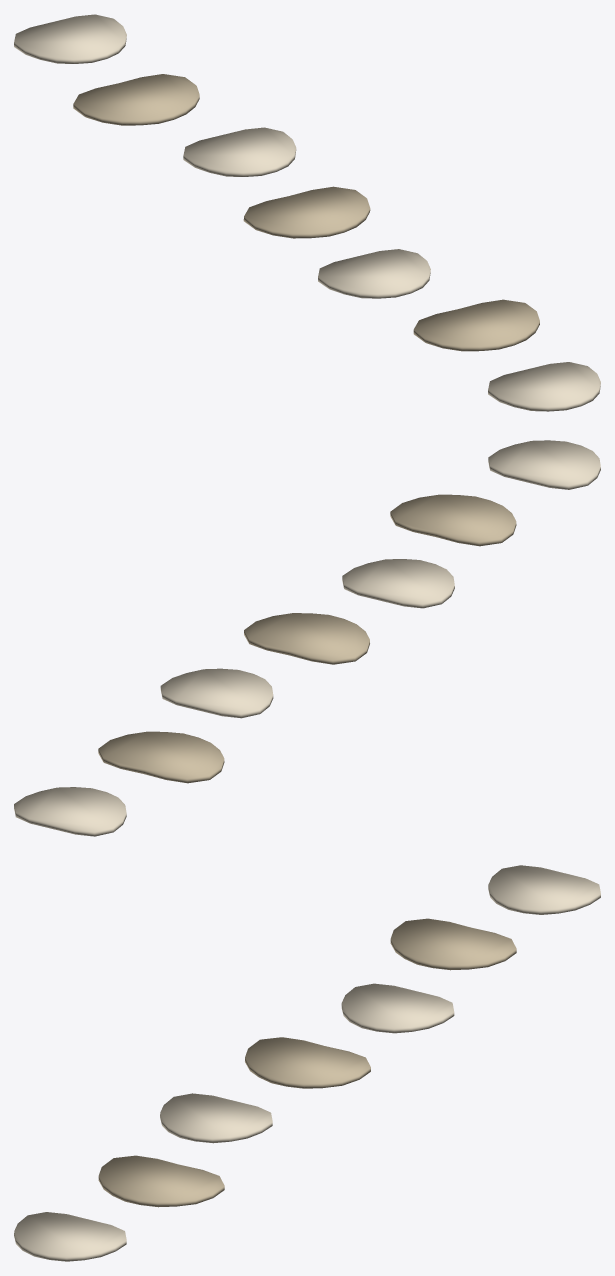
File: lod_stepping_stones.glb
3 renders of one model, top to bottom at view 1: azimuth 30°, elevation 25°; view 2: azimuth 150°, elevation 25°; view 3: azimuth 330°, elevation 25°, orthographic.
Parts seen in each view (by area): view 1: stepping_stones; view 2: stepping_stones; view 3: stepping_stones.
Part boxes in pixels (x1,y1,x2,y2): stepping_stones: (14, 14, 600, 411); stepping_stones: (14, 440, 600, 836); stepping_stones: (14, 865, 600, 1261).
Size of the model in its own units: 0.9911 by 0.0366 by 6.6.
